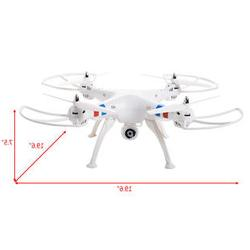drone: (18, 70, 246, 173)
